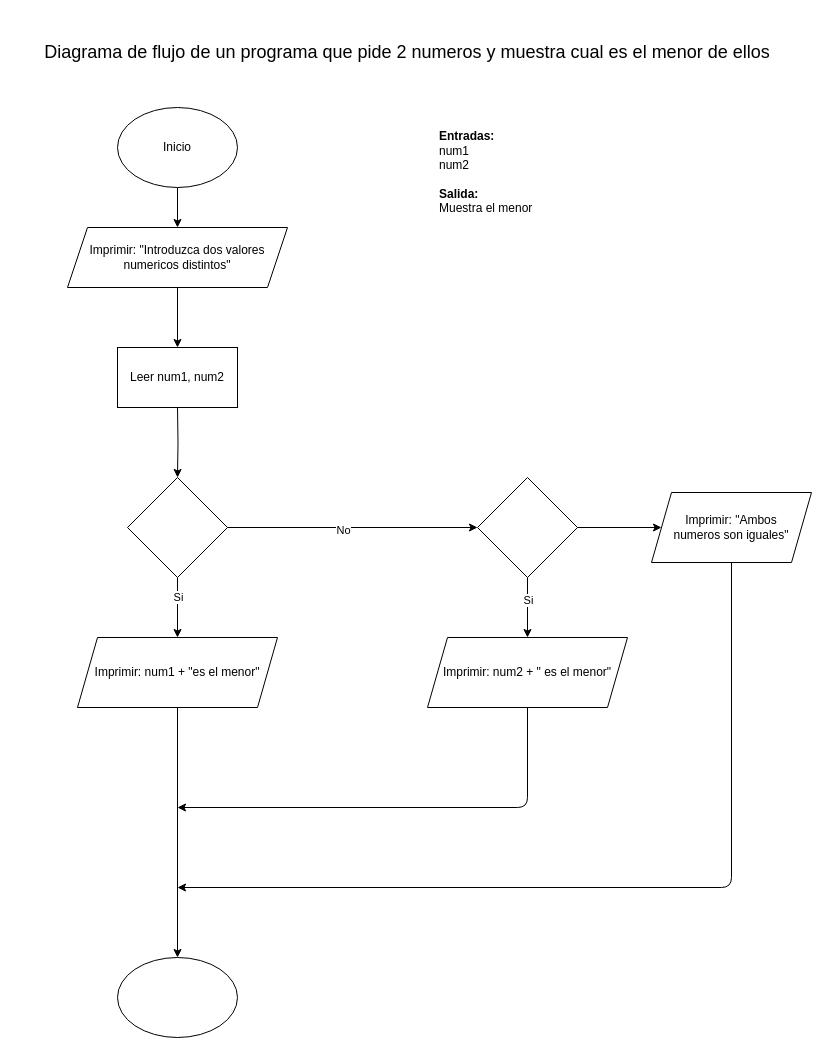
This 829x1055 diagram has some shape labels left out. Each missing label, with the box of its shape:
Fin: (116, 956, 238, 1038)
num1 < num2: (126, 476, 228, 578)
num2 < num1: (476, 476, 578, 578)
